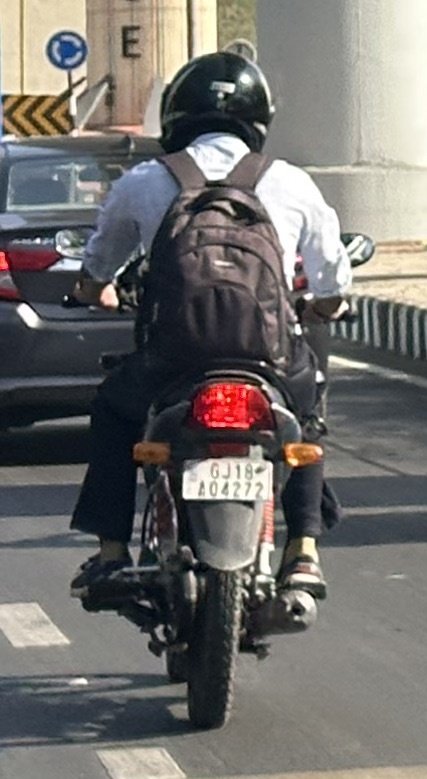BikeWithRider: (50, 41, 383, 739)
Helmet: (146, 43, 286, 163)
